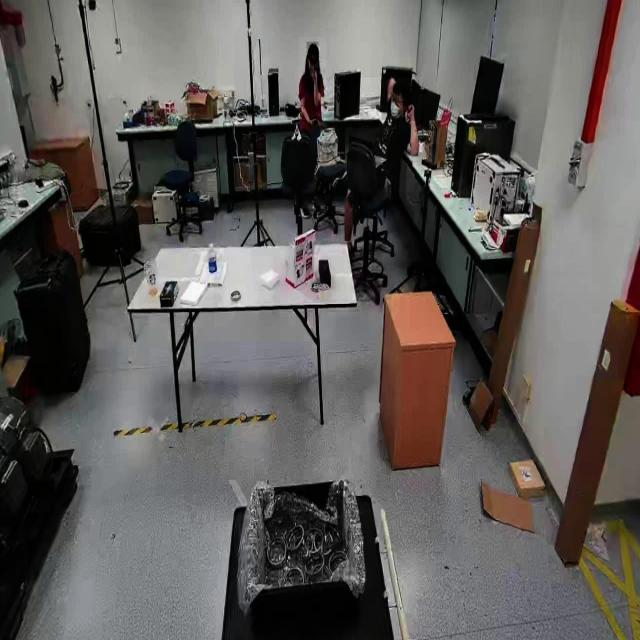face_mask: (389, 93, 405, 119)
face_nomask: (308, 58, 316, 74)
hand_noglove: (403, 101, 415, 122), (309, 116, 319, 126), (311, 68, 317, 80)
head_nohelmet: (391, 76, 415, 94), (307, 42, 319, 54)
person: (358, 77, 422, 193), (298, 37, 326, 138)
